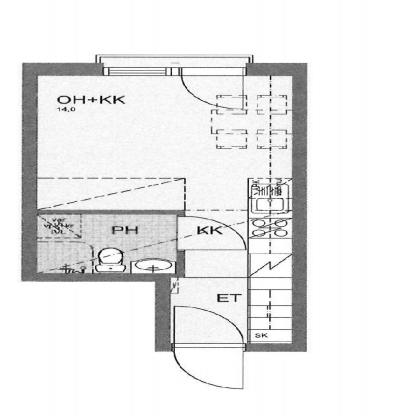door: (172, 305, 257, 395), (178, 65, 255, 113), (173, 216, 246, 255)
window: (100, 66, 174, 76)
zone: (36, 73, 284, 211), (35, 214, 177, 274), (172, 278, 288, 343), (182, 212, 291, 277)
